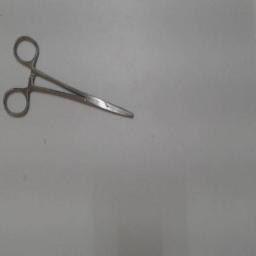Mayo Needle Holder: (1, 32, 141, 126)
